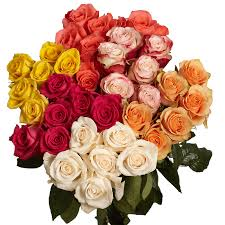lale: (113, 141, 162, 188), (46, 150, 87, 196), (4, 75, 49, 116), (7, 125, 49, 158), (78, 173, 114, 211), (87, 95, 125, 131), (178, 83, 215, 119), (157, 105, 192, 141), (70, 119, 102, 156), (87, 145, 121, 179), (140, 124, 176, 156), (97, 41, 129, 74), (34, 127, 74, 152), (129, 57, 162, 87), (97, 73, 135, 99), (48, 47, 83, 75), (143, 33, 176, 62), (156, 72, 185, 104), (16, 99, 53, 124), (120, 103, 151, 132), (178, 58, 212, 83), (104, 123, 135, 150), (132, 11, 167, 34), (40, 101, 73, 125), (113, 30, 146, 54), (44, 77, 73, 103), (61, 3, 96, 24), (82, 13, 115, 35), (52, 23, 79, 49), (75, 67, 103, 92), (68, 90, 93, 116), (4, 53, 32, 75), (29, 59, 53, 83), (35, 38, 62, 58), (140, 87, 165, 107)
